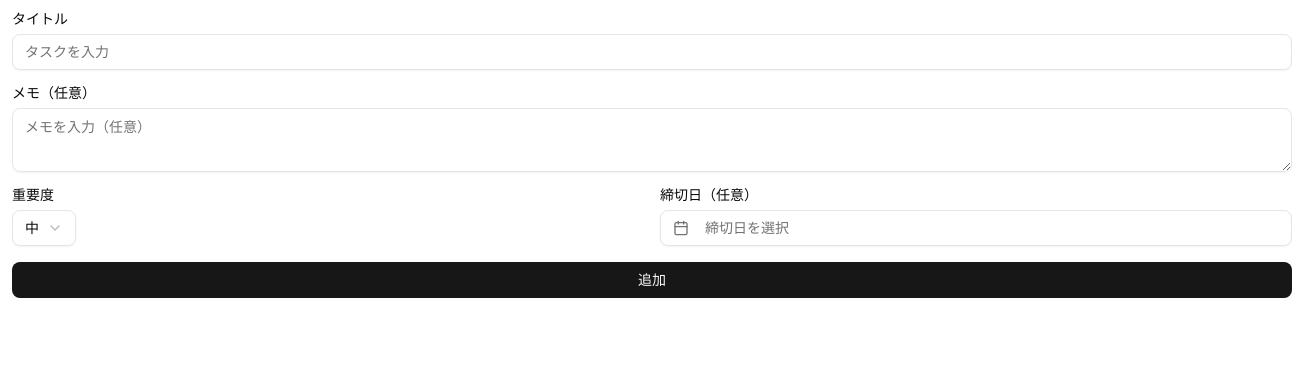
Test case: TodoForm › should display server error message
Type "タスク1" into the field labelled "タイトル".
click(652, 52); type("タスク1")  # box [12,34,1292,70]
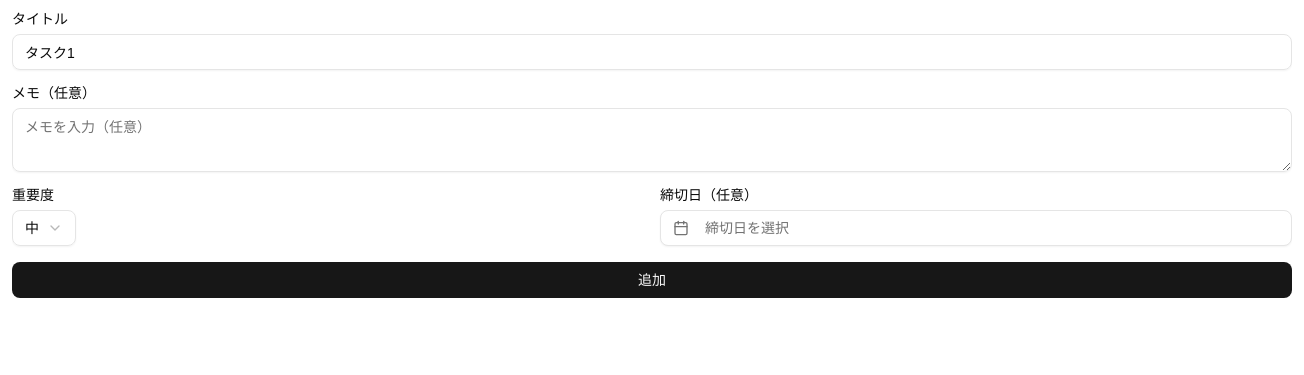
Click the button "追加".
click(652, 280)  # box [12,262,1292,298]
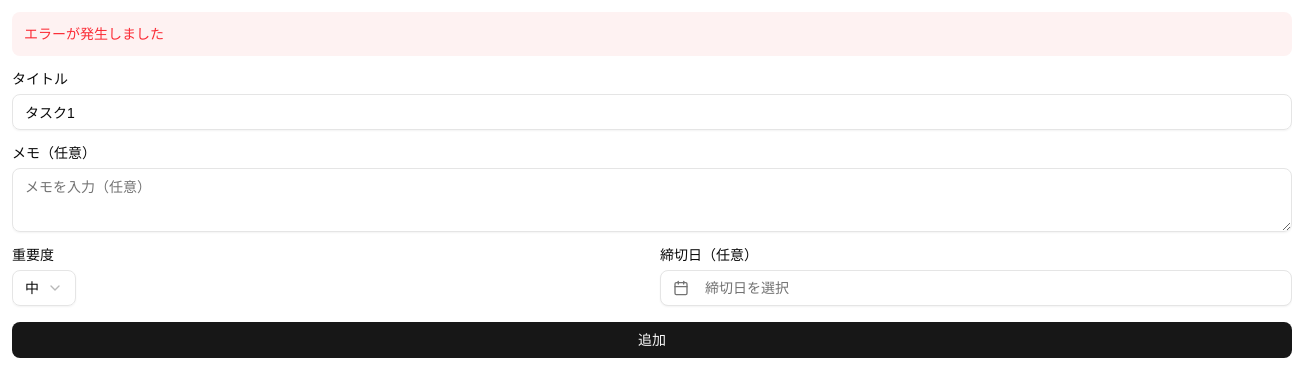
Now the text "エラーが発生しました" is shown, box [12,12,1292,56]
